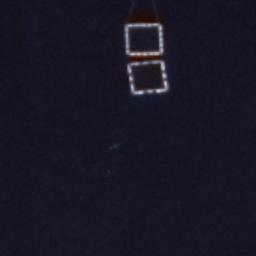square_solid: (123, 56, 172, 98), (122, 19, 165, 58)
